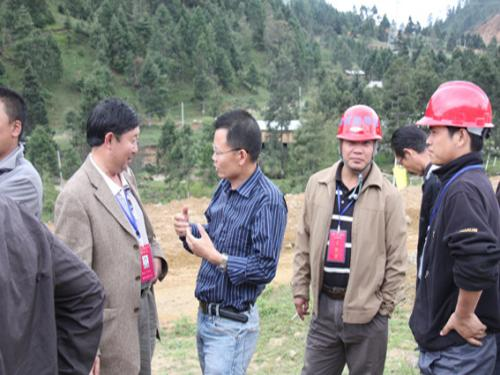hard-hat: (415, 80, 495, 135), (335, 104, 383, 141)
person: (290, 104, 409, 375), (53, 96, 169, 374), (173, 108, 289, 374), (408, 80, 500, 375)
